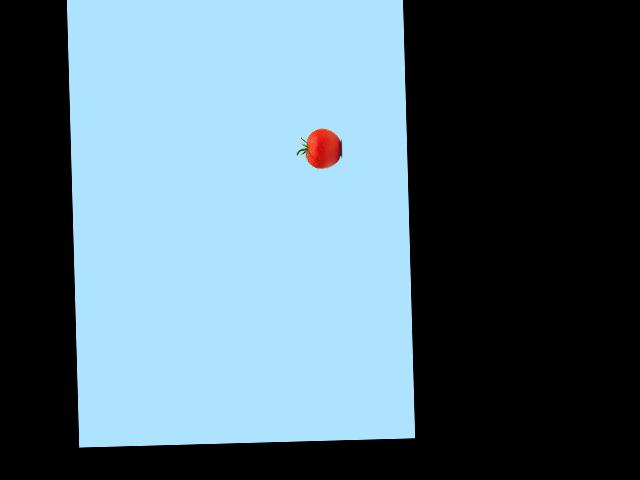tomato: (305, 127, 341, 168)
